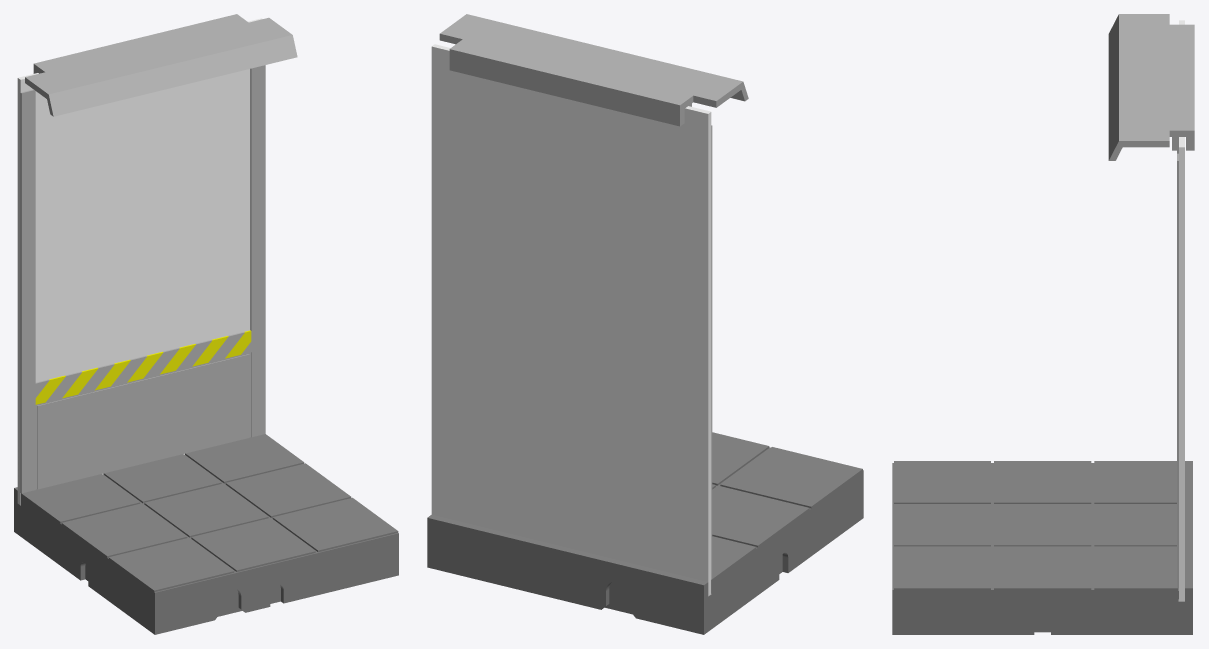
Rendered from garage_rueckwand.glb.
3 views of the same model, side by side, from view 1: azimuth 30°, elevation 25°; view 2: azimuth 150°, elevation 25°; view 3: azimuth 270°, elevation 25° (orthographic). The views are drawn at different scales.
Visible parts, largest first — view 1: Seitenwand_erweiterung_kopie-1, Werkstattboden_single_kopie-1, Artika_kopie-1; view 2: Seitenwand_erweiterung_kopie-1, Werkstattboden_single_kopie-1, Artika_kopie-1; view 3: Werkstattboden_single_kopie-1, Artika_kopie-1, Seitenwand_erweiterung_kopie-1.
Boxes of the visible parts, x1=… form: Seitenwand_erweiterung_kopie-1: x1=17, y1=18, x2=265, y2=505; Werkstattboden_single_kopie-1: x1=14, y1=434, x2=398, y2=634; Artika_kopie-1: x1=25, y1=14, x2=297, y2=116; Seitenwand_erweiterung_kopie-1: x1=431, y1=44, x2=712, y2=596; Werkstattboden_single_kopie-1: x1=427, y1=432, x2=863, y2=634; Artika_kopie-1: x1=439, y1=14, x2=748, y2=126; Werkstattboden_single_kopie-1: x1=892, y1=461, x2=1192, y2=634; Artika_kopie-1: x1=1108, y1=14, x2=1194, y2=160; Seitenwand_erweiterung_kopie-1: x1=1177, y1=20, x2=1184, y2=601.
Bounding box in the file's own units: 0.06 × 0.1087 × 0.0603.
